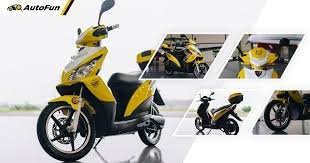motor: (39, 26, 166, 158)
